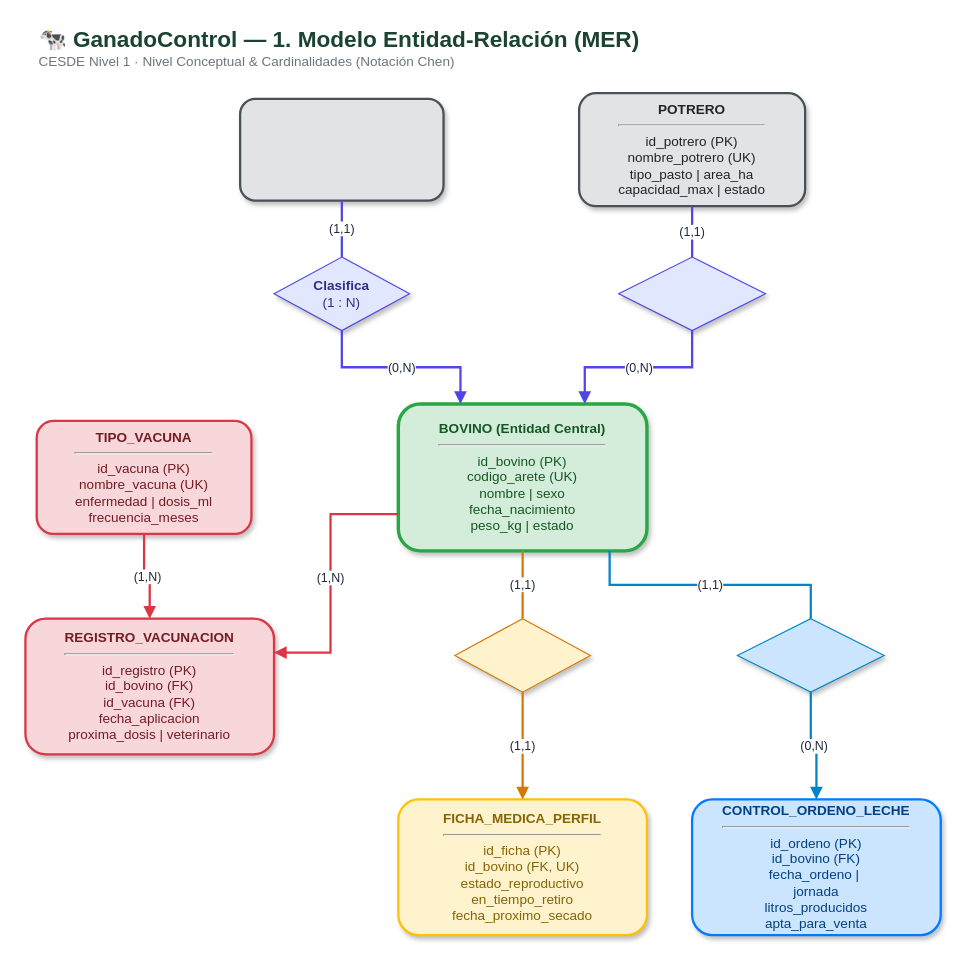
Image size: 967x963. Some labels were removed from this diagram. Each missing label, with the centre of its shape:
Pastorea / Aloja (1 : N): (x=692, y=294)
Posee (1 : 1 Estricta): (x=523, y=656)
RAZA id_raza (PK) nombre_raza (UK) proposito: (x=342, y=151)
Registra (1 : N): (x=811, y=656)
